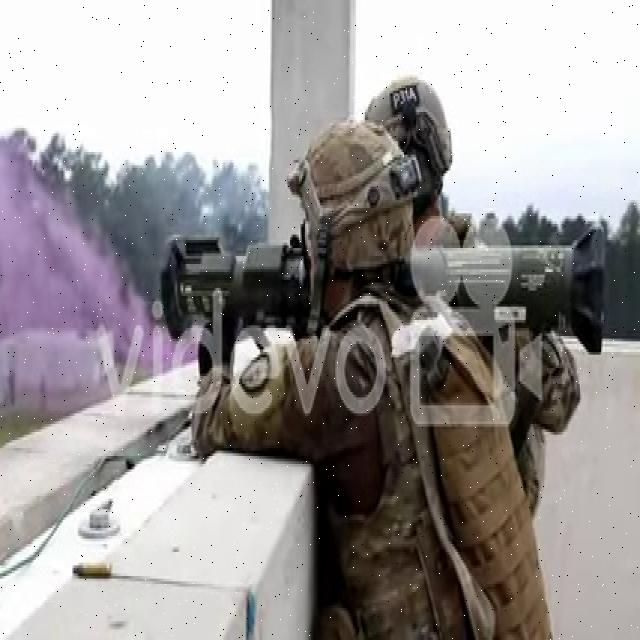bazooka: (157, 220, 616, 367)
